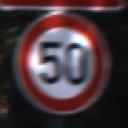speed_limit_50: (17, 13, 108, 115)
